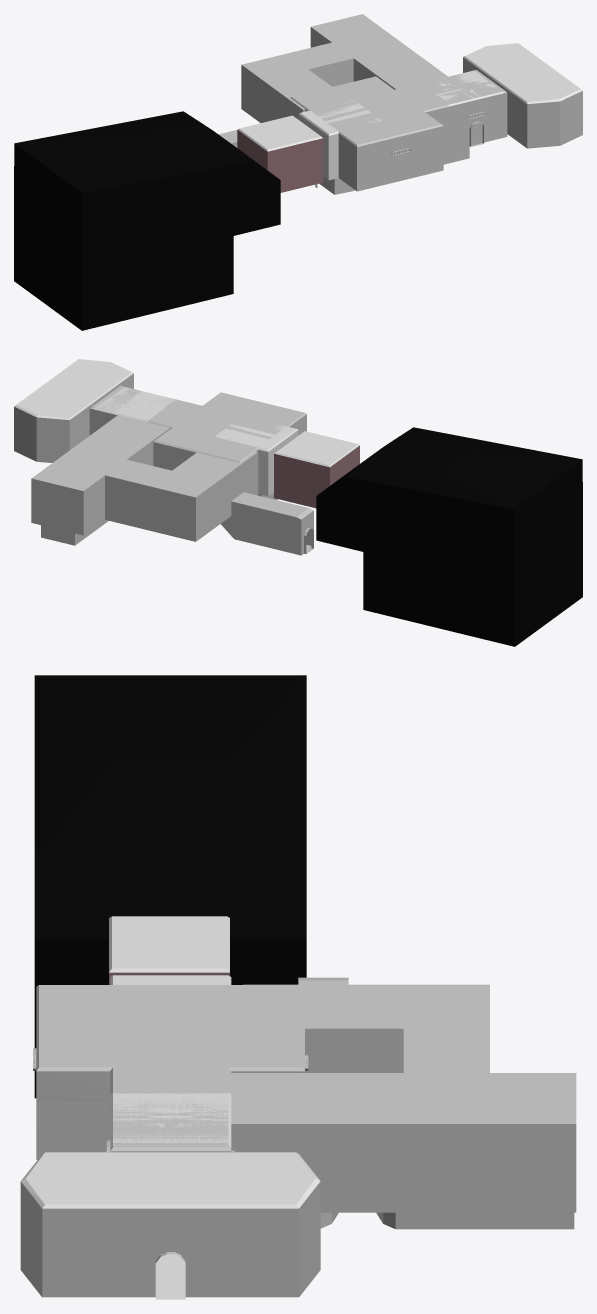
Rendered from map.dae.
3 renders of one model, top to bottom at view 1: azimuth 30°, elevation 25°; view 2: azimuth 150°, elevation 25°; view 3: azimuth 270°, elevation 25°, orthographic. The views are drawn at different scales.
Parts seen in each view (by area): view 1: Cube.004, Cube.007, Cube.008, Cube.005, Cube.003, Cube.001, Cube.002, Cube; view 2: Cube.004, Cube.007, Cube.005, Cube.008, Cube.003, Cube.002, Cube.001, Cube; view 3: Cube.004, Cube.007, Cube.005, Cube.008, Cube.003, Cube.001, Cube.002.
Part boxes in pixels (x1=…): Cube.004: x1=14, y1=111, x2=280, y2=330; Cube.007: x1=218, y1=14, x2=507, y2=164; Cube.008: x1=290, y1=76, x2=443, y2=194; Cube.005: x1=463, y1=43, x2=582, y2=148; Cube.003: x1=237, y1=115, x2=323, y2=192; Cube.001: x1=422, y1=71, x2=502, y2=150; Cube.002: x1=298, y1=100, x2=382, y2=180; Cube: x1=436, y1=70, x2=504, y2=150; Cube.004: x1=316, y1=427, x2=582, y2=646; Cube.007: x1=31, y1=386, x2=313, y2=555; Cube.005: x1=14, y1=359, x2=133, y2=462; Cube.008: x1=153, y1=392, x2=306, y2=499; Cube.003: x1=274, y1=431, x2=359, y2=508; Cube.002: x1=214, y1=424, x2=298, y2=496; Cube.001: x1=94, y1=387, x2=174, y2=431; Cube: x1=92, y1=390, x2=176, y2=433; Cube.004: x1=34, y1=675, x2=306, y2=1098; Cube.007: x1=110, y1=977, x2=576, y2=1229; Cube.005: x1=20, y1=1152, x2=320, y2=1299; Cube.008: x1=33, y1=985, x2=308, y2=1159; Cube.003: x1=109, y1=916, x2=229, y2=984; Cube.001: x1=110, y1=1093, x2=231, y2=1145; Cube.002: x1=110, y1=975, x2=231, y2=984.
Size of the model in its own units: 189 by 90.15 by 49.66.
